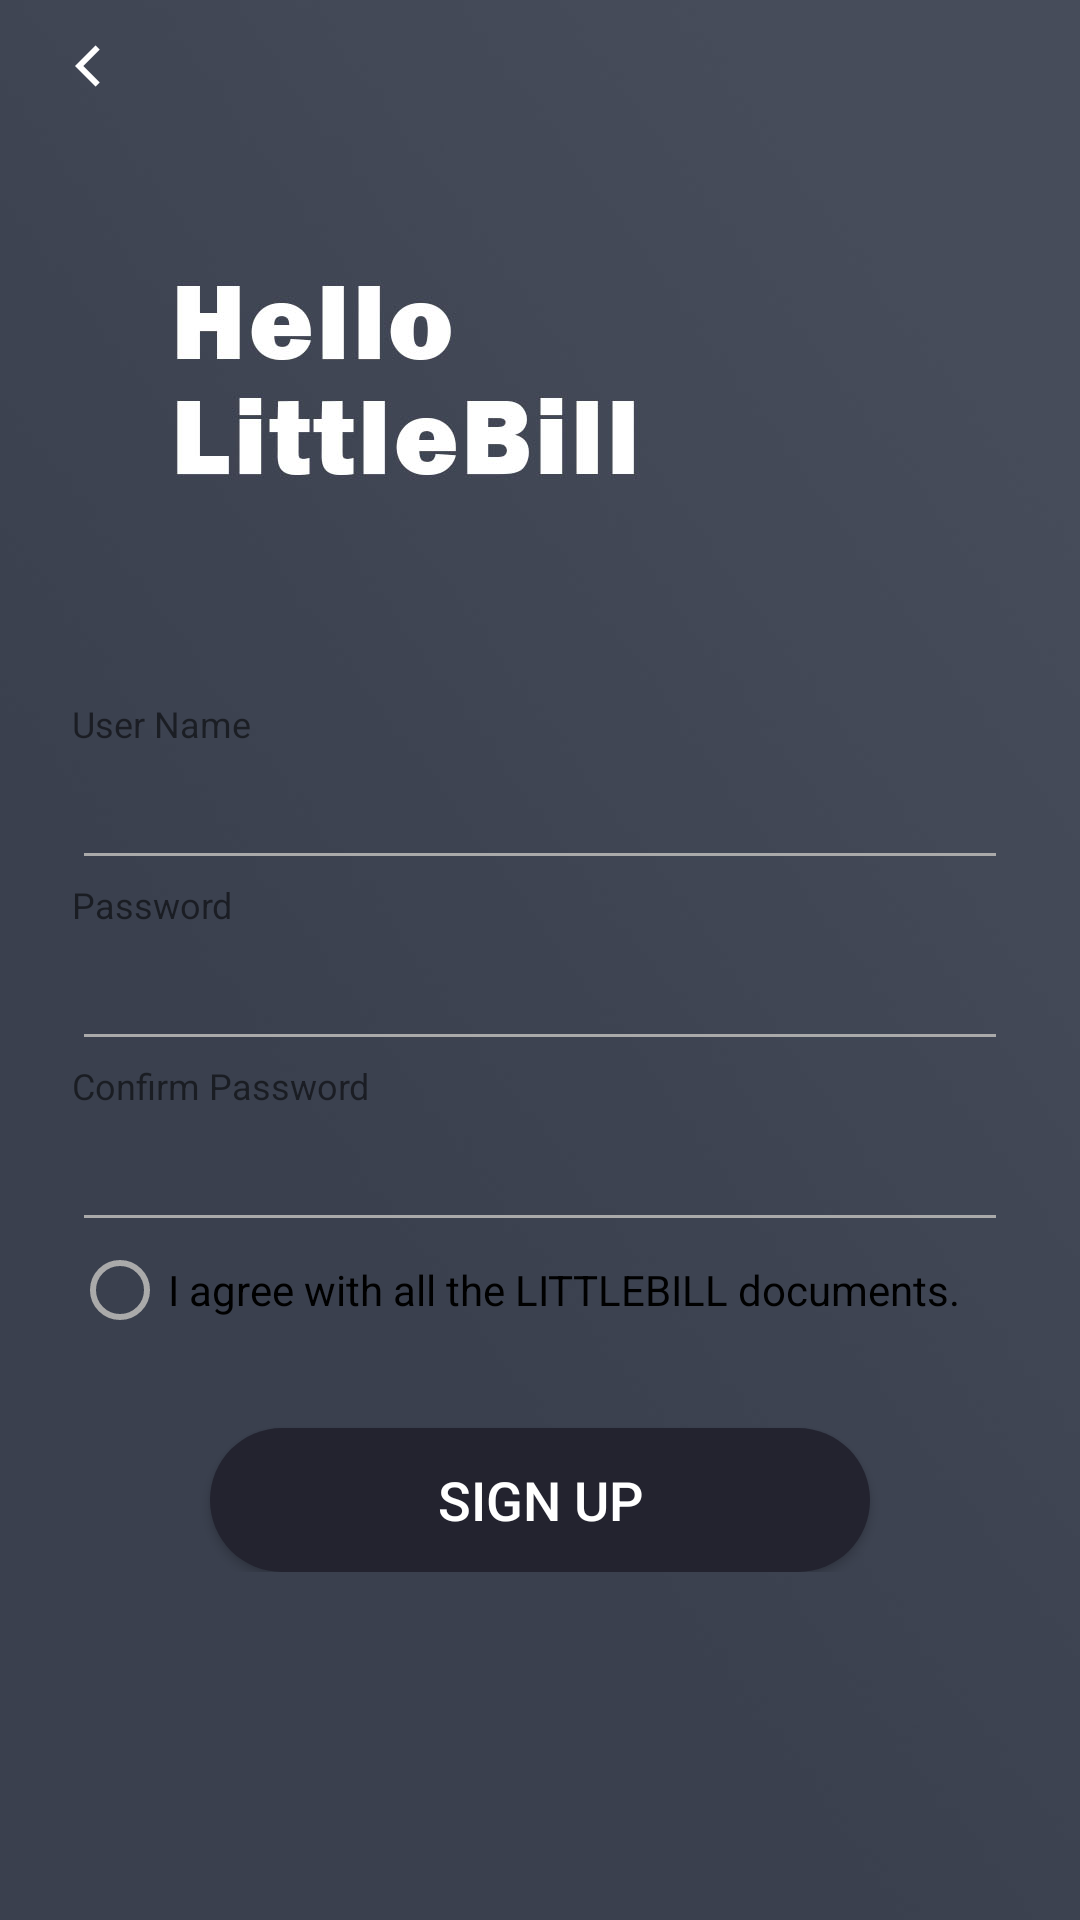

Locate icon controls on the screen. Image size 1080px x 1920px, boxes as [x1,y1,x2,y2].
arrow back: [75,45,100,87]
